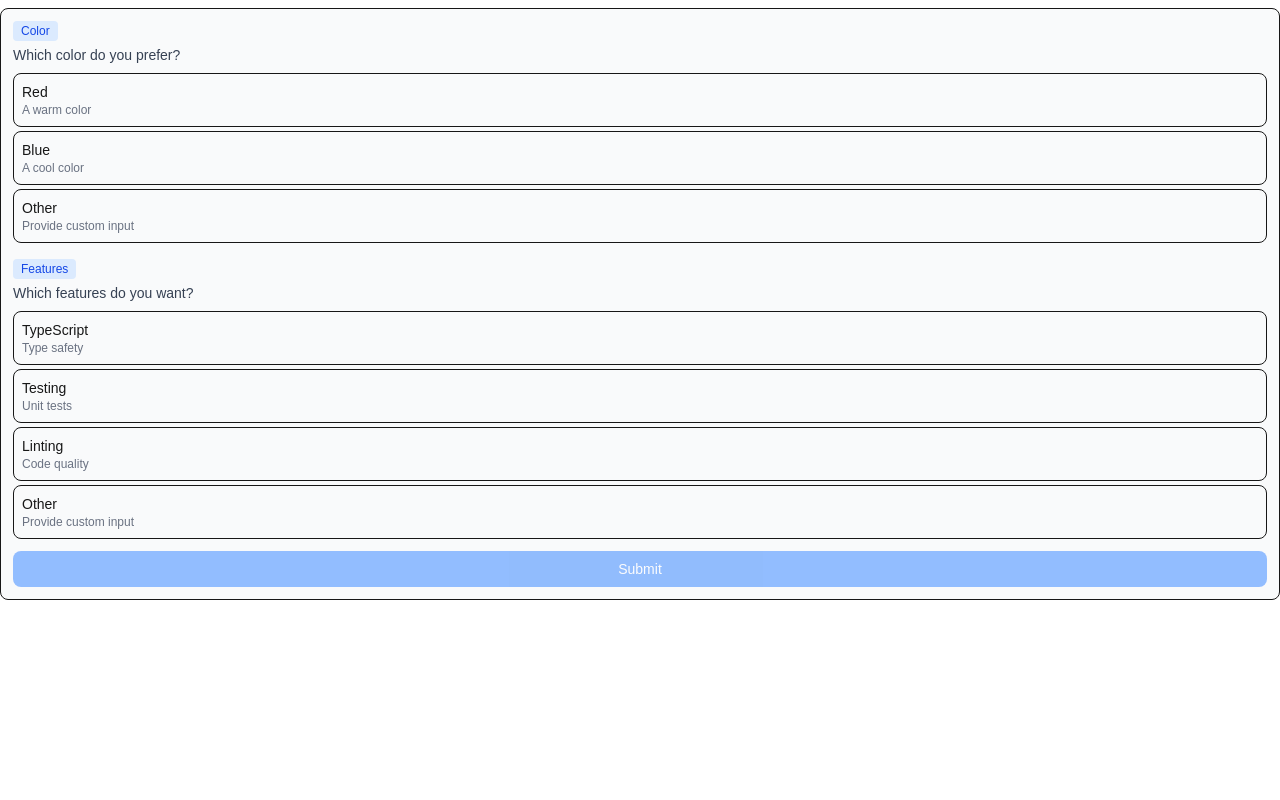
Test: AskUserQuestionUI › submit › requires all questions to be answered
This screenshot has width=1280, height=800.
// Answer only first question
Click the button "Red A warm color" at (57, 110), box left=13, top=73, right=1267, bottom=127
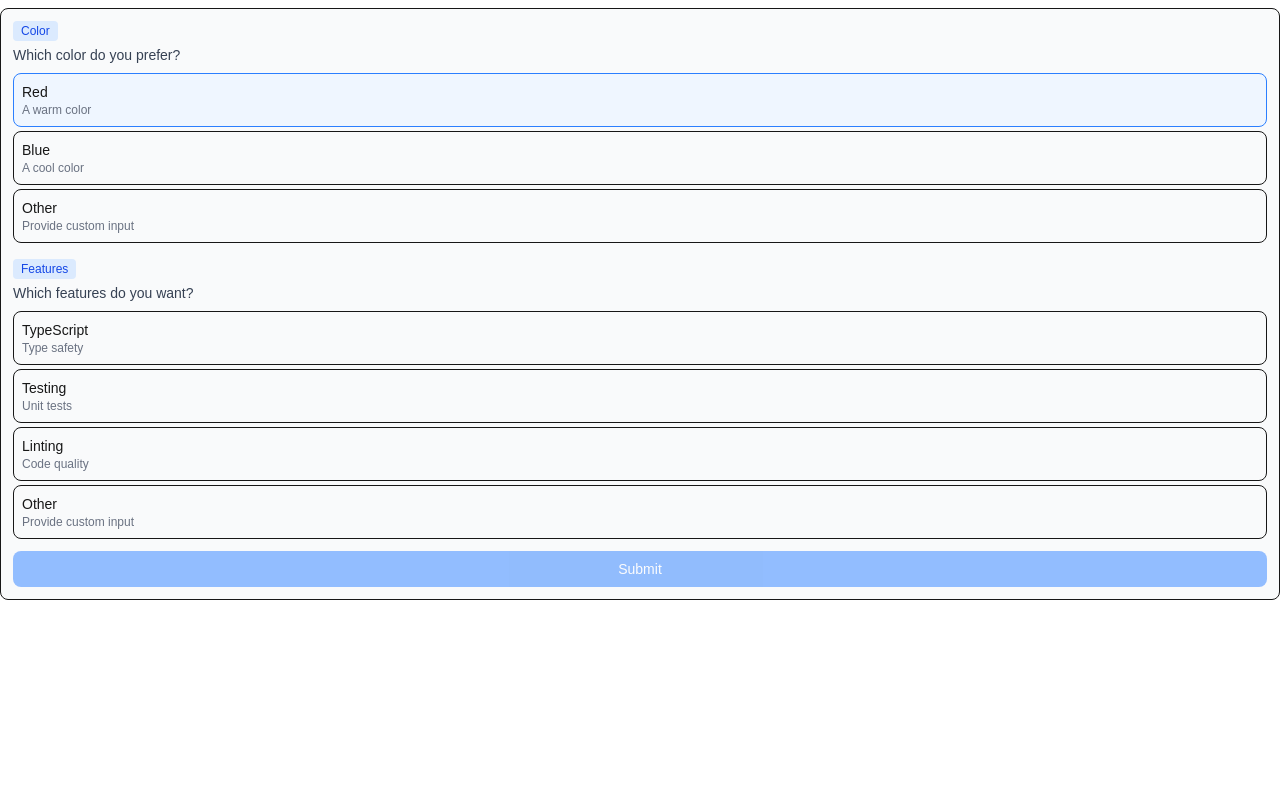
Expected: the button "Submit" is disabled, left=13, top=551, right=1267, bottom=587
// Answer second question
Click the button "TypeScript Type safety" at (55, 330), box left=13, top=311, right=1267, bottom=365
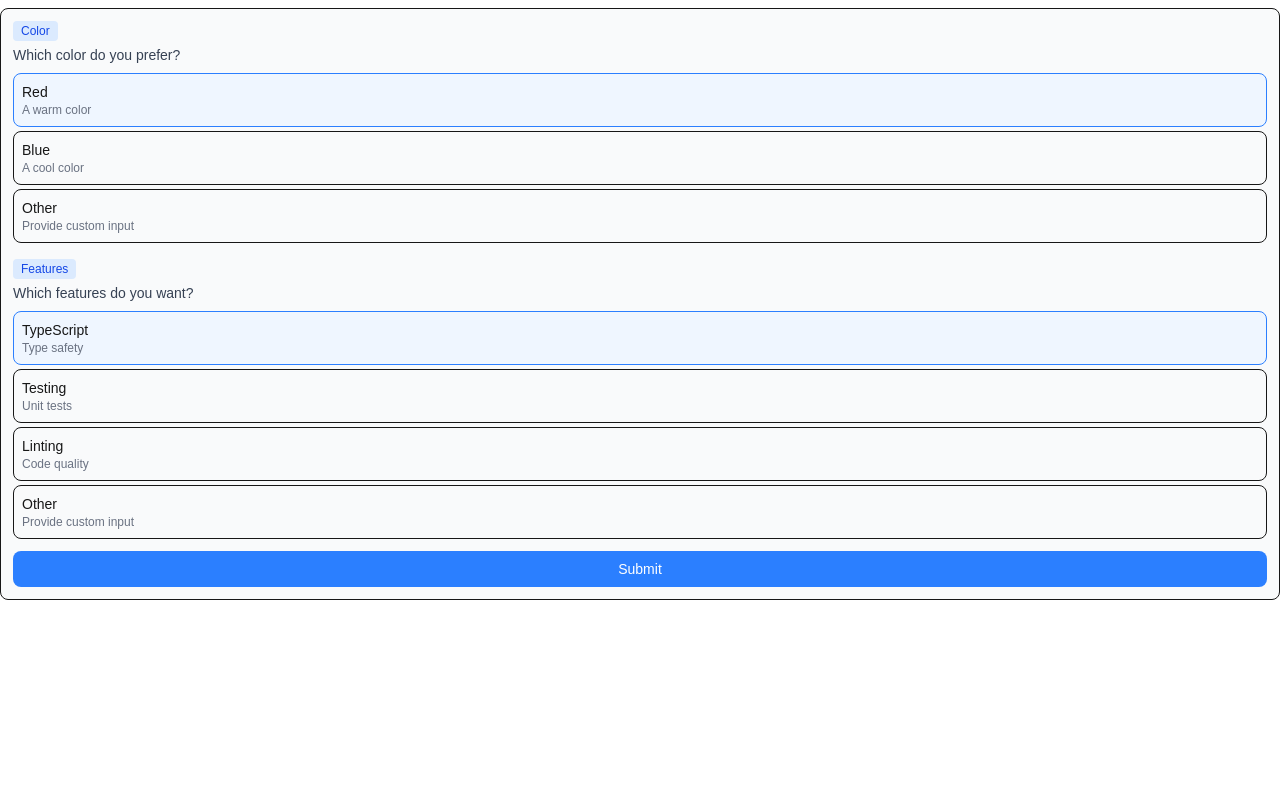
Expected: the button "Submit" is enabled, left=13, top=551, right=1267, bottom=587
